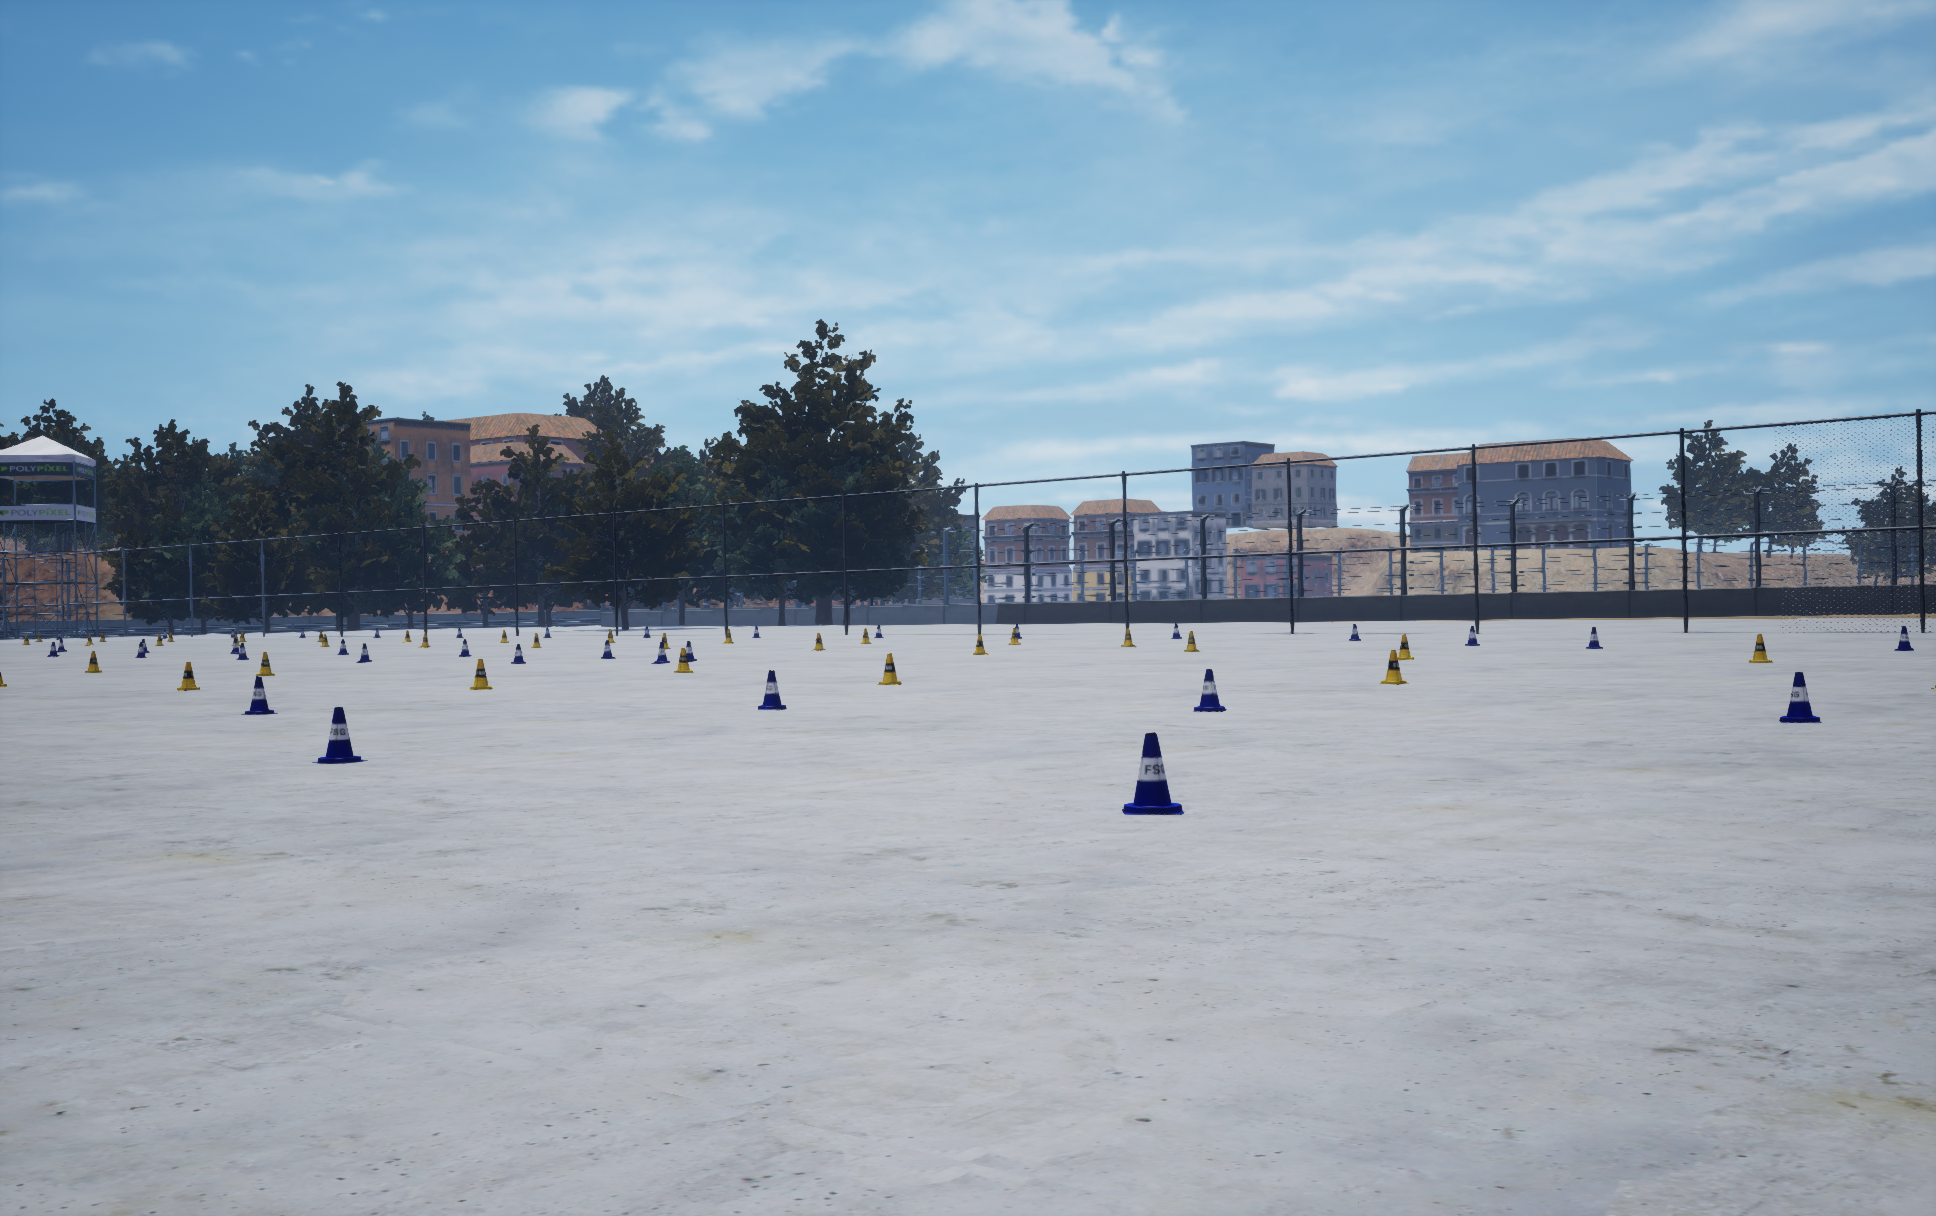blue: (1378, 650, 1408, 684), (877, 653, 901, 684), (469, 658, 492, 689), (1750, 635, 1773, 663), (177, 663, 199, 691), (674, 649, 693, 672), (256, 651, 275, 677), (1397, 635, 1413, 658), (1184, 630, 1201, 651), (85, 651, 101, 672), (1121, 628, 1136, 646), (974, 635, 988, 654)
yellow: (1122, 733, 1182, 814), (312, 707, 367, 764), (1779, 672, 1821, 721), (241, 677, 277, 714), (1194, 670, 1226, 712), (758, 670, 786, 709), (1894, 626, 1914, 650), (651, 642, 670, 663), (1586, 628, 1603, 649), (356, 643, 371, 663), (511, 644, 525, 663), (1465, 626, 1479, 644), (601, 640, 615, 658)
